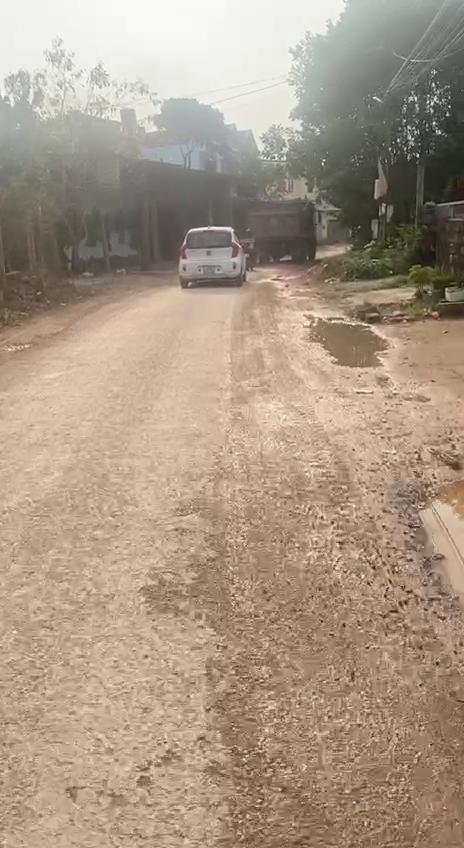pothole: (393, 466, 464, 616), (304, 313, 394, 373)
